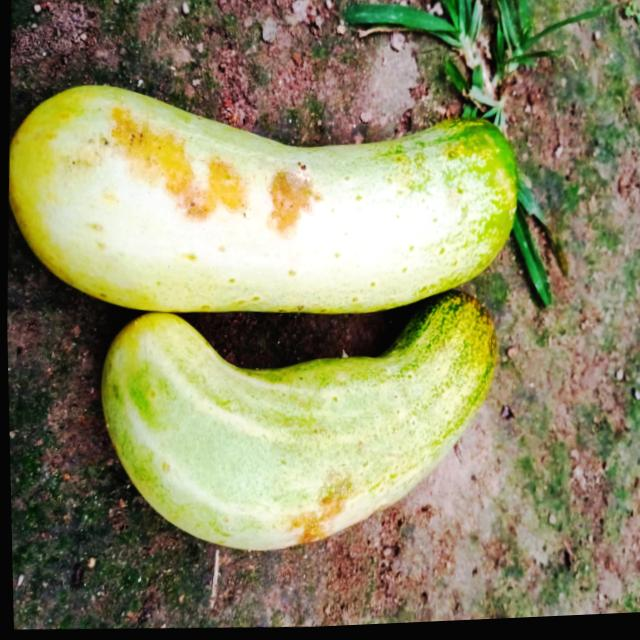Belly-Rot: (93, 91, 326, 259), (275, 482, 348, 556)
